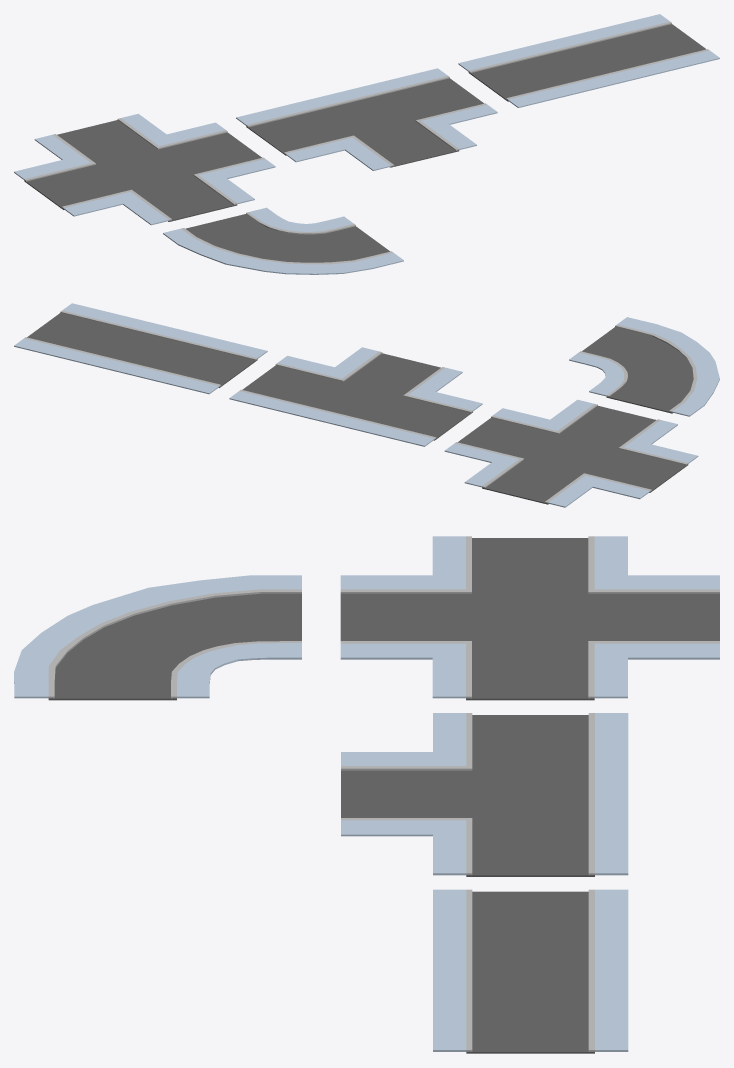
Rendered from modular_roads_sketch.fbx.
3 renders of one model, top to bottom at view 1: azimuth 30°, elevation 25°; view 2: azimuth 150°, elevation 25°; view 3: azimuth 270°, elevation 25°, orthographic. The views are drawn at different scales.
Visible parts, largest first — view 1: 4-way road, 3-way T road, 2-way road, Curve road; view 2: 4-way road, 3-way T road, 2-way road, Curve road; view 3: 4-way road, 3-way T road, 2-way road, Curve road.
Part boxes in pixels (x1,y1,x2,y2): 4-way road: (14, 113, 275, 225); 3-way T road: (236, 68, 497, 170); 2-way road: (458, 14, 719, 107); Curve road: (163, 207, 403, 274); 4-way road: (444, 399, 698, 507); 3-way T road: (229, 347, 482, 446); 2-way road: (14, 303, 267, 394); Curve road: (569, 317, 719, 416); 4-way road: (340, 536, 719, 700); 3-way T road: (341, 713, 628, 876); 2-way road: (433, 889, 628, 1053); Curve road: (14, 575, 301, 700).
Bounding box in the file's own units: 631 × 2.13 × 366.
